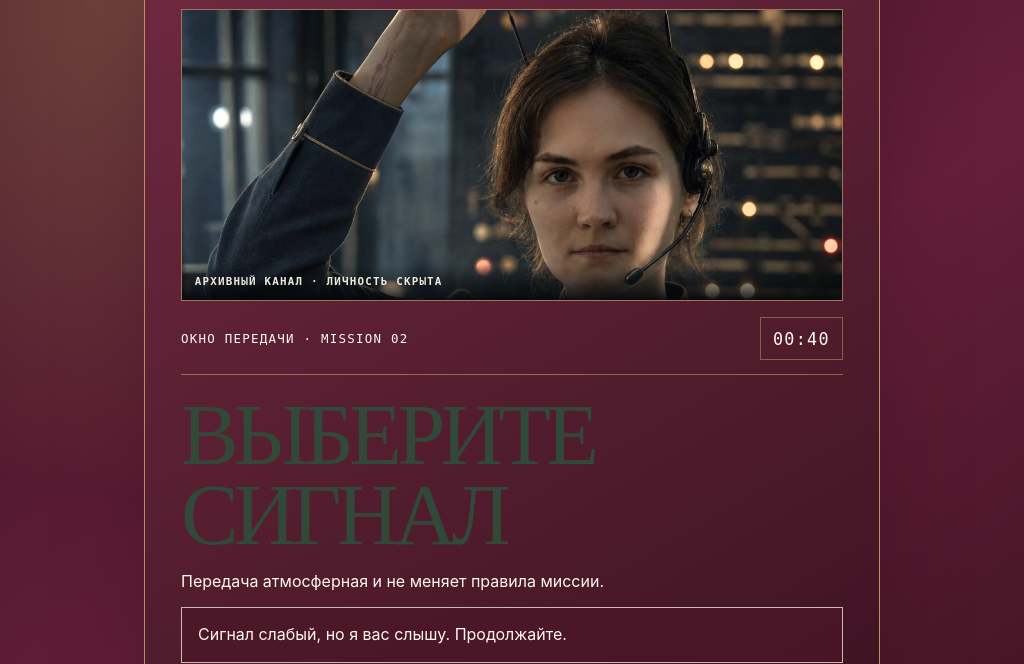
Test case: LizaBunkerOperatorPanel › confirms the exact phrase, submits once, locks the card and broadcasts refresh
This screenshot has width=1024, height=664.
Later steps or results of the test are not shown.
Click the button "Сигнал слабый, но я вас слышу. Продолжайте." at (512, 635), box x1=181 y1=607 x2=843 y2=663
(page scrolled)
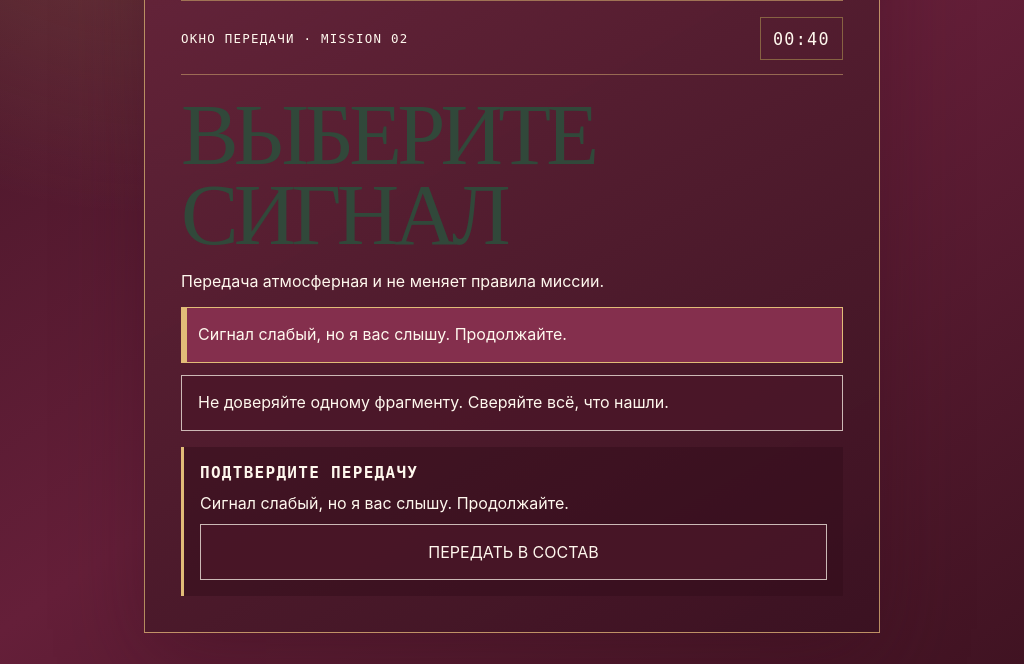
Result: the text "ПОДТВЕРДИТЕ ПЕРЕДАЧУ" is shown at x1=200 y1=463 x2=418 y2=482
